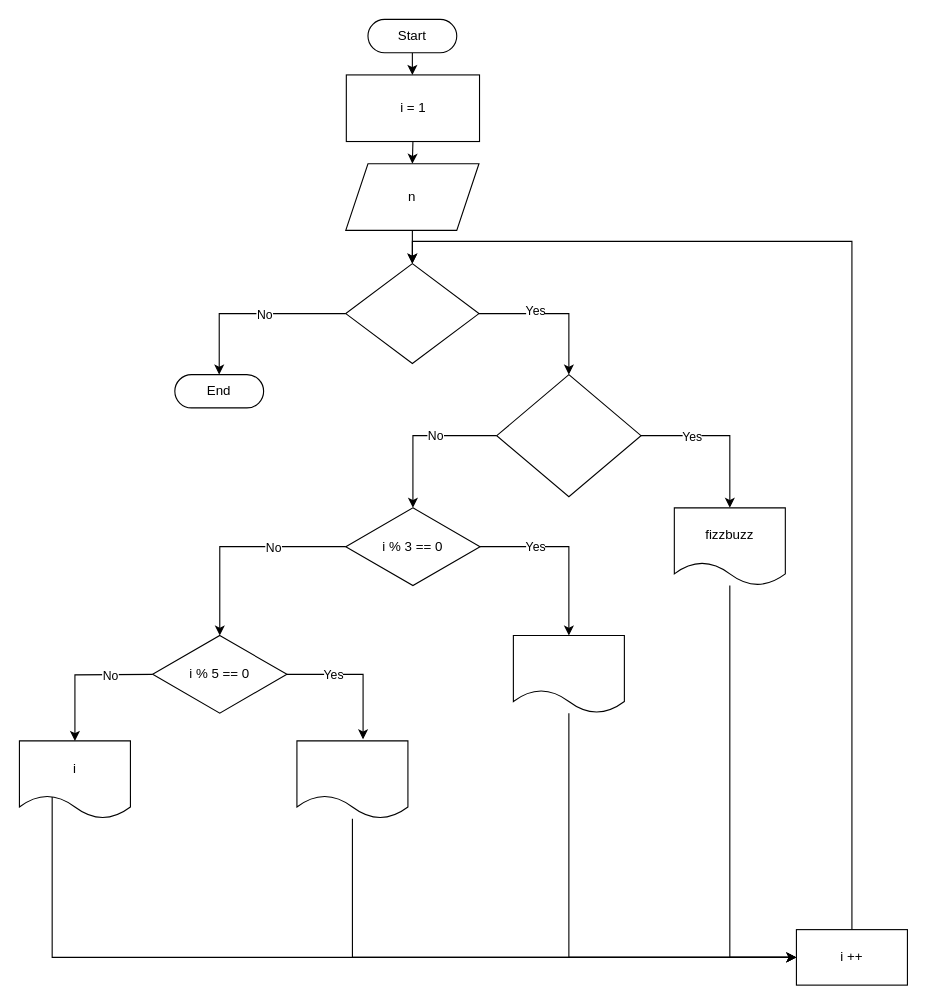
This 927x1005 diagram has some shape labels left out. Each missing label, with the centre of its shape:
"buzz" belongs at point (352, 779).
"fizz" belongs at point (568, 673).
"i % 3 == 0 and i % 5 == 0" belongs at point (568, 435).
"i <= n" belongs at point (412, 313).
